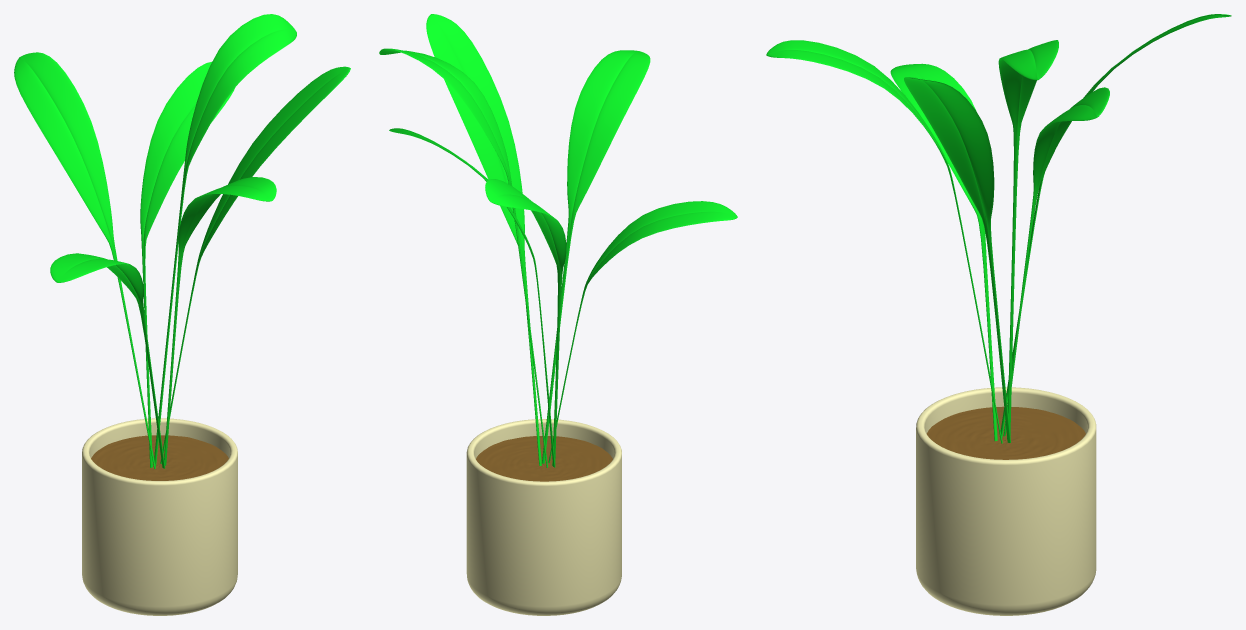
Rendered from FlowerPot.fbx.
The picture shows the model from 3 angles, left to right: view 1: azimuth 30°, elevation 25°; view 2: azimuth 150°, elevation 25°; view 3: azimuth 270°, elevation 25°; orthographic projection. The views are drawn at different scales.
Visible parts, largest first — view 1: Cylinder, Plane_8, Plane_4, Plane_6, Disc_1, Plane, Plane_12, Plane_10; view 2: Cylinder, Plane_12, Plane, Disc_1, Plane_10, Plane_4, Plane_8, Plane_6; view 3: Cylinder, Plane, Disc_1, Plane_4, Plane_12, Plane_6, Plane_10, Plane_8.
Boxes of the visible parts, bbox=[...] form: Cylinder: bbox=[82, 418, 237, 615]; Plane_8: bbox=[14, 52, 155, 468]; Plane_4: bbox=[154, 14, 296, 465]; Plane_6: bbox=[140, 62, 234, 467]; Disc_1: bbox=[91, 435, 228, 480]; Plane: bbox=[160, 66, 350, 463]; Plane_12: bbox=[164, 177, 276, 465]; Plane_10: bbox=[50, 253, 165, 468]; Cylinder: bbox=[466, 419, 621, 615]; Plane_12: bbox=[542, 50, 650, 463]; Plane: bbox=[426, 14, 541, 465]; Disc_1: bbox=[476, 435, 612, 481]; Plane_10: bbox=[548, 201, 737, 462]; Plane_4: bbox=[379, 48, 547, 467]; Plane_8: bbox=[485, 179, 566, 465]; Plane_6: bbox=[389, 128, 555, 467]; Cylinder: bbox=[916, 387, 1096, 615]; Plane: bbox=[904, 77, 1010, 442]; Disc_1: bbox=[926, 406, 1085, 459]; Plane_4: bbox=[998, 40, 1058, 438]; Plane_12: bbox=[766, 40, 1002, 443]; Plane_6: bbox=[1003, 87, 1109, 436]; Plane_10: bbox=[890, 63, 997, 441]; Plane_8: bbox=[999, 14, 1231, 437].
Bounding box in the file's own units: 79.15 × 132 × 91.52.
